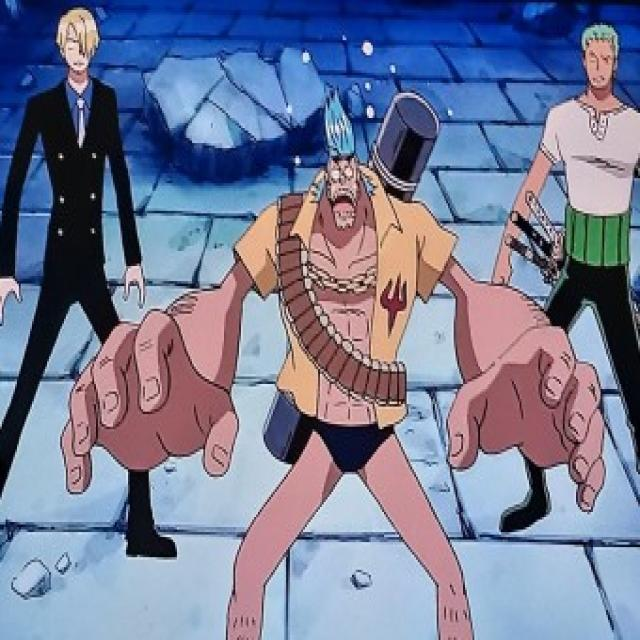Franky: (315, 82, 371, 235)
Sangdi: (50, 8, 104, 78)
Zoro: (576, 18, 624, 98)
